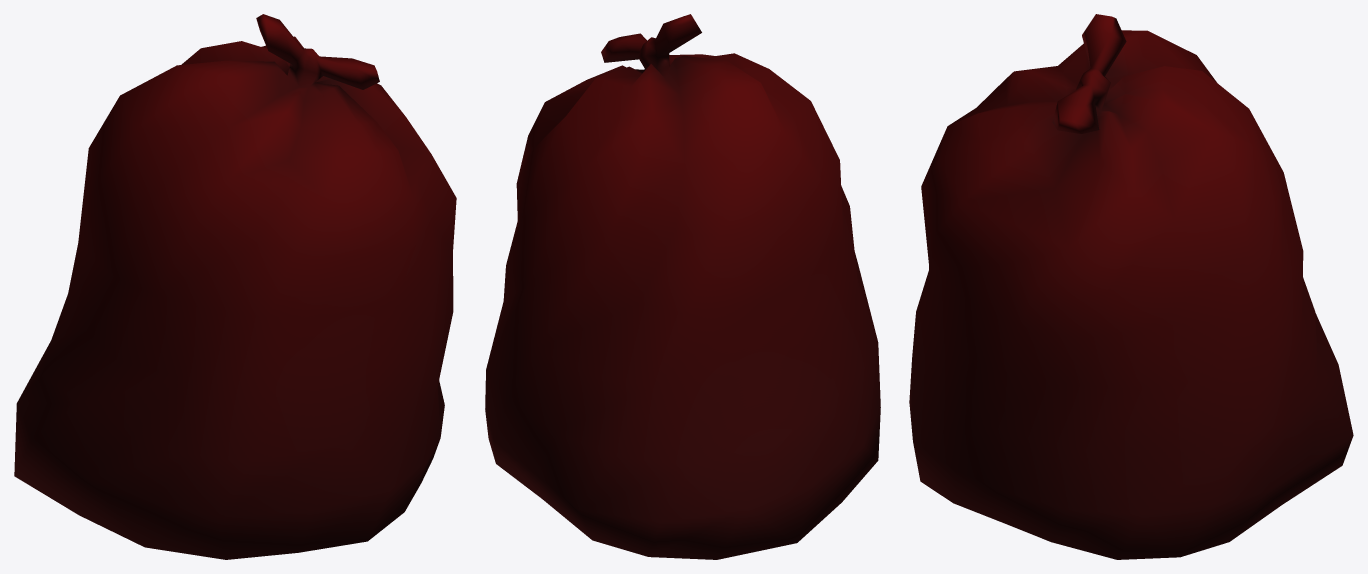
The model's file is GarbageBag002.glb.
The picture shows the model from 3 angles, left to right: view 1: azimuth 30°, elevation 25°; view 2: azimuth 150°, elevation 25°; view 3: azimuth 270°, elevation 25°; orthographic projection. The views are drawn at different scales.
Visible parts, largest first — view 1: GarbageBag002; view 2: GarbageBag002; view 3: GarbageBag002.
Part boxes in pixels (bbox=[...]): GarbageBag002: bbox=[14, 14, 456, 559]; GarbageBag002: bbox=[485, 14, 880, 559]; GarbageBag002: bbox=[909, 14, 1353, 559].
Size of the model in its own units: 3.5 by 4.36 by 3.73.
